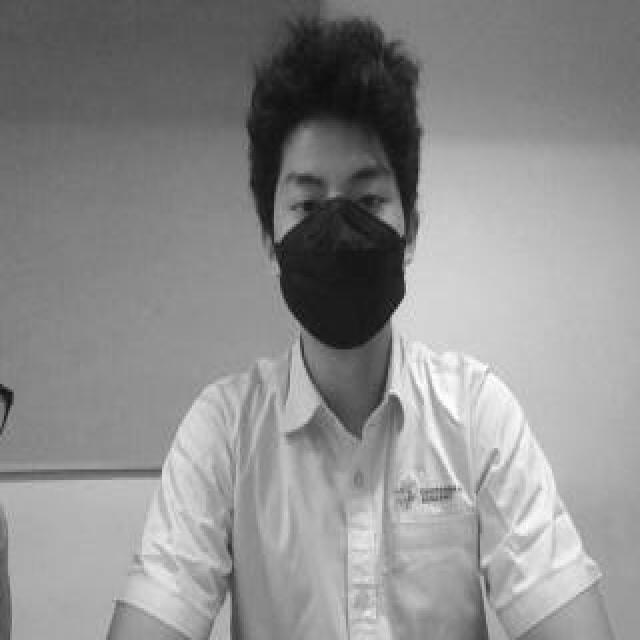Focused: (279, 136, 401, 324)
